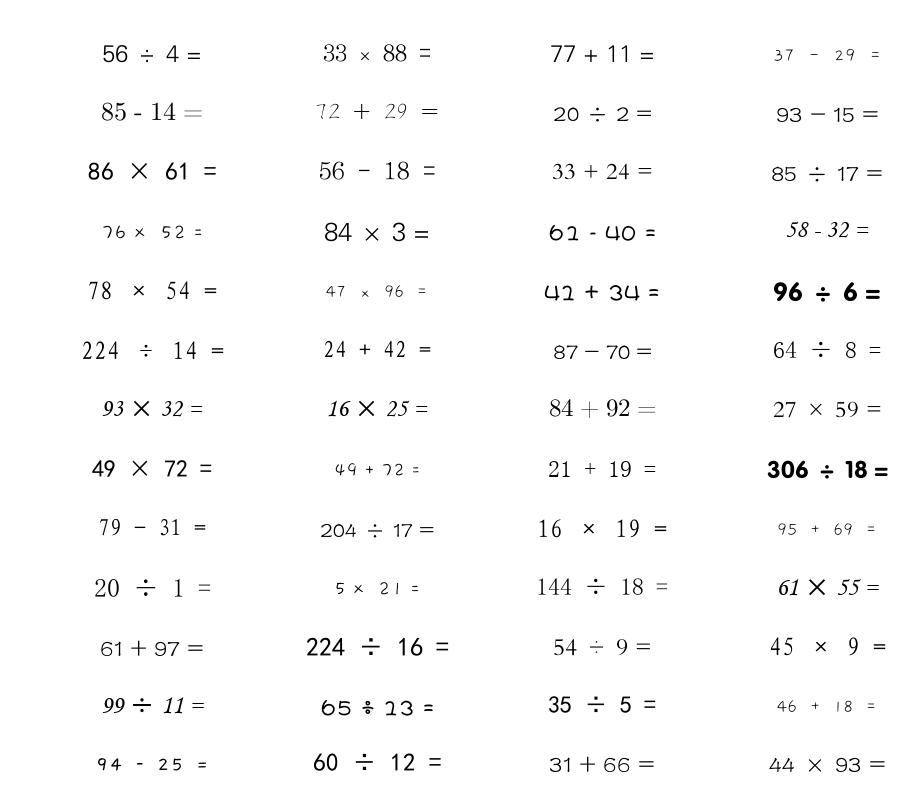MQ: (81, 341, 224, 360), (306, 637, 449, 656), (87, 281, 217, 300), (537, 519, 667, 538), (313, 753, 442, 772), (88, 162, 217, 180), (767, 460, 888, 479), (536, 578, 668, 595), (319, 161, 436, 180), (94, 578, 211, 597), (769, 637, 886, 656), (773, 282, 881, 302), (549, 399, 656, 419), (324, 222, 430, 242), (315, 103, 439, 120), (92, 460, 212, 477), (323, 44, 431, 62), (323, 340, 431, 358), (98, 518, 206, 536), (101, 102, 203, 121), (321, 699, 434, 716), (102, 44, 202, 63), (769, 757, 886, 773), (544, 285, 660, 301), (773, 401, 882, 418), (773, 341, 881, 358), (548, 696, 656, 713), (549, 224, 656, 241), (549, 756, 655, 773), (771, 166, 883, 182), (550, 45, 655, 62), (100, 640, 204, 657), (776, 579, 879, 596), (101, 697, 204, 714), (101, 400, 203, 417), (326, 400, 428, 417), (548, 461, 656, 477), (552, 163, 653, 180), (320, 523, 434, 538), (553, 639, 652, 656), (776, 107, 879, 122), (101, 225, 203, 240), (773, 48, 882, 62), (553, 107, 652, 122), (95, 758, 209, 771), (785, 221, 869, 238), (553, 345, 652, 359), (326, 285, 428, 298), (777, 523, 877, 536), (777, 700, 877, 713), (334, 463, 421, 477), (334, 582, 420, 596)
